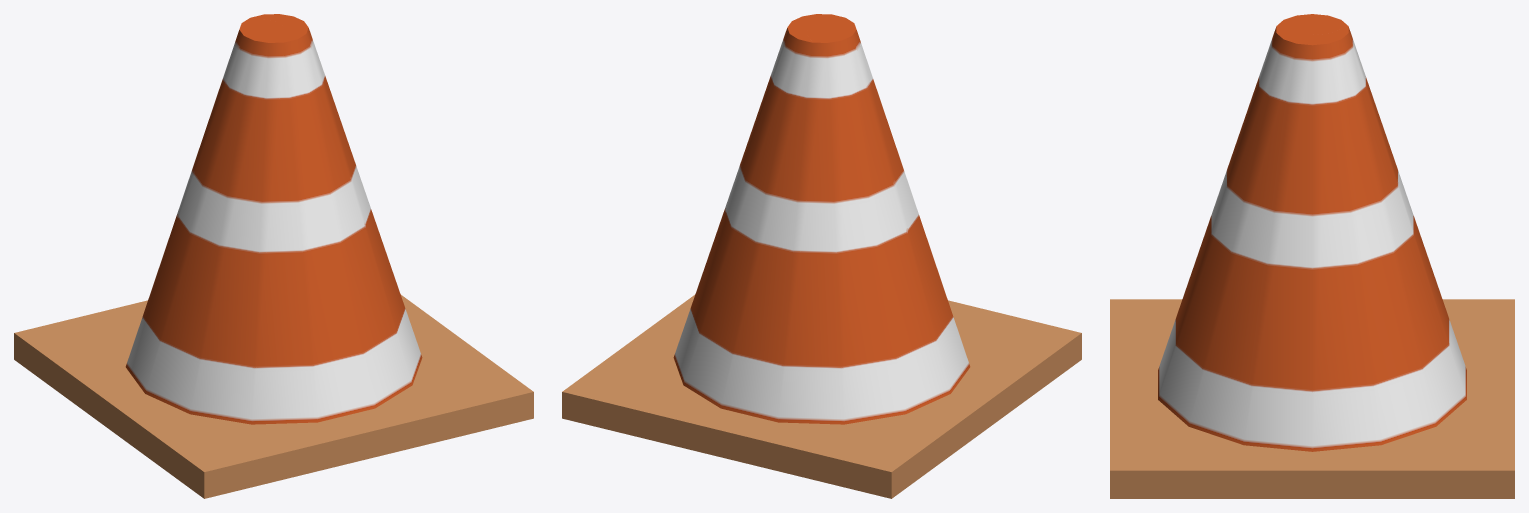
The model's file is pilone_orange 1.fbx.
The picture shows the model from 3 angles, left to right: view 1: azimuth 30°, elevation 25°; view 2: azimuth 150°, elevation 25°; view 3: azimuth 270°, elevation 25°; orthographic projection. The views are drawn at different scales.
Visible parts, largest first — view 1: pilone_hut, pilone_fuss; view 2: pilone_hut, pilone_fuss; view 3: pilone_hut, pilone_fuss.
Boxes of the visible parts, x1,y1,x2,y2 form: pilone_hut: (125, 14, 422, 424); pilone_fuss: (14, 294, 533, 498); pilone_hut: (673, 14, 970, 424); pilone_fuss: (562, 294, 1081, 498); pilone_hut: (1158, 14, 1466, 451); pilone_fuss: (1110, 299, 1514, 498).
Size of the model in its own units: 3.88 by 4.05 by 3.88.
Materials: 2 (1 with a texture image).
